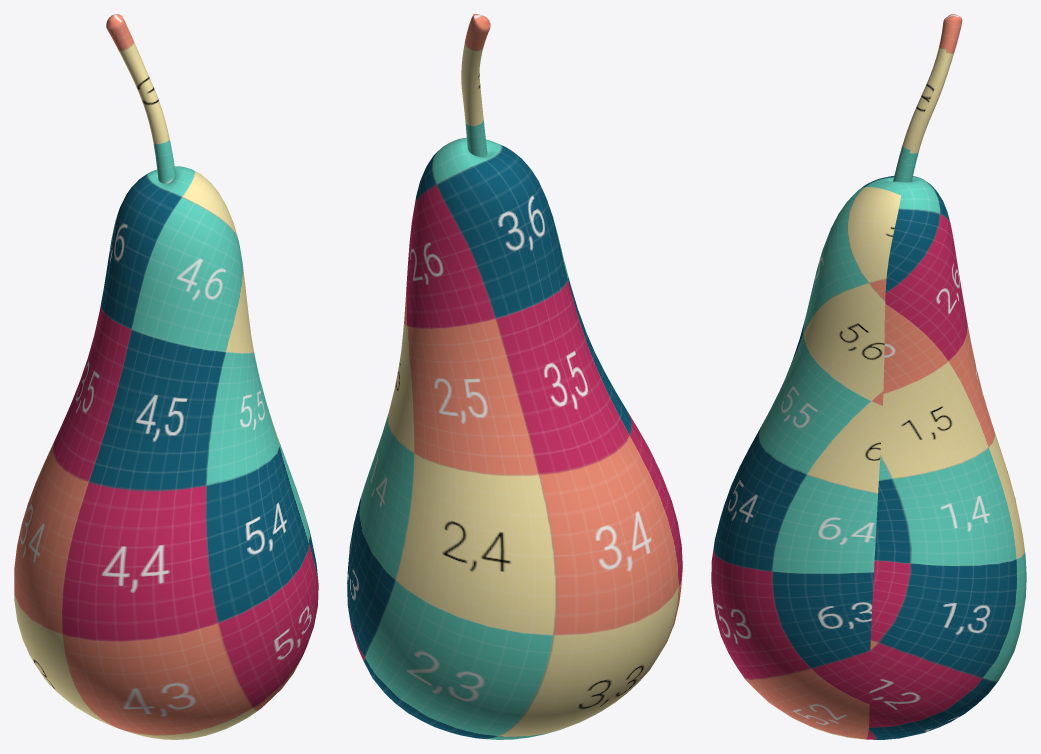
Rendered from Pear.obj.
3 views of the same model, side by side, from view 1: azimuth 30°, elevation 25°; view 2: azimuth 150°, elevation 25°; view 3: azimuth 270°, elevation 25° (orthographic). The views are drawn at different scales.
Parts seen in each view (by area): view 1: Pear_004 Fruit_Bowl; view 2: Pear_004 Fruit_Bowl; view 3: Pear_004 Fruit_Bowl.
Boxes of the visible parts, bbox=[...] form: Pear_004 Fruit_Bowl: bbox=[14, 14, 318, 739]; Pear_004 Fruit_Bowl: bbox=[347, 14, 682, 739]; Pear_004 Fruit_Bowl: bbox=[711, 14, 1026, 739].
Size of the model in its own units: 6.28 by 15.59 by 6.3.
